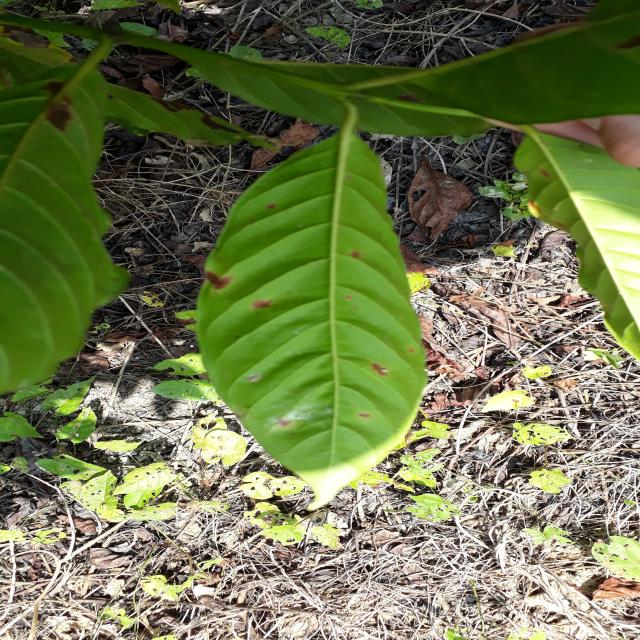Enfermedad-Roya: (197, 108, 428, 506)
